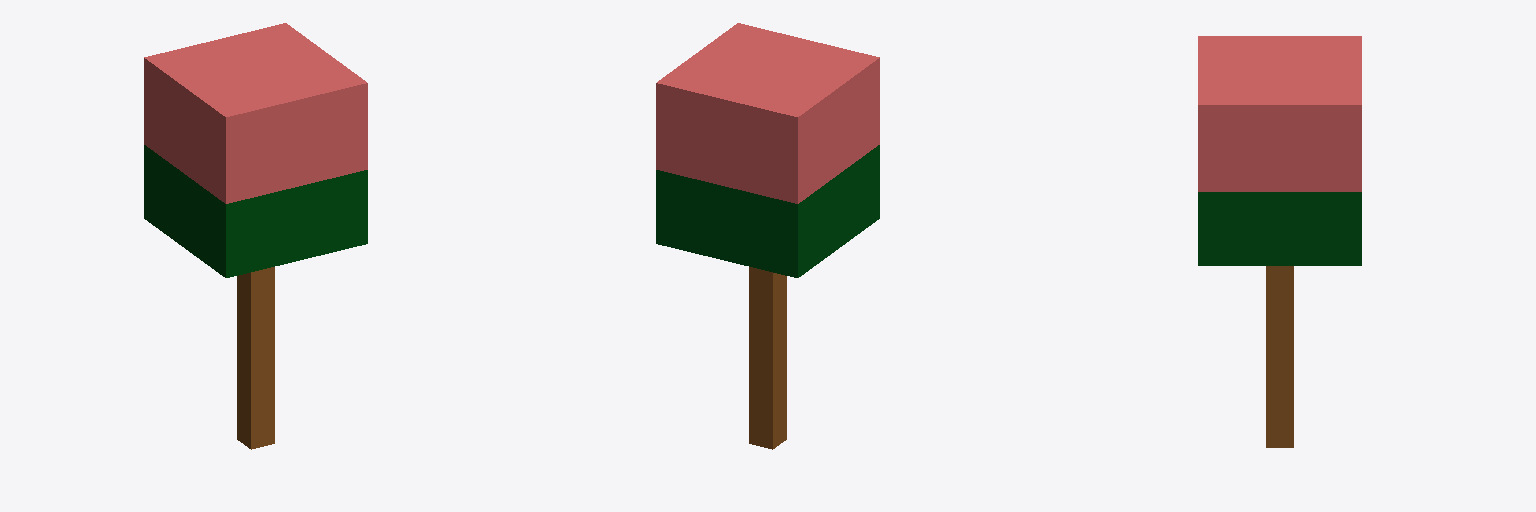
The picture shows the model from 3 angles: view 1: azimuth 30°, elevation 25°; view 2: azimuth 150°, elevation 25°; view 3: azimuth 270°, elevation 25°; orthographic projection.
Parts seen in each view (by area): view 1: object 1; view 2: object 1; view 3: object 1.
Part boxes in pixels (bbox=[...]): object 1: bbox=[144, 23, 367, 449]; object 1: bbox=[656, 23, 879, 449]; object 1: bbox=[1198, 36, 1361, 447].
Size of the model in its own units: 1.2 by 3 by 1.2.
Materials: 1 (1 with a texture image).